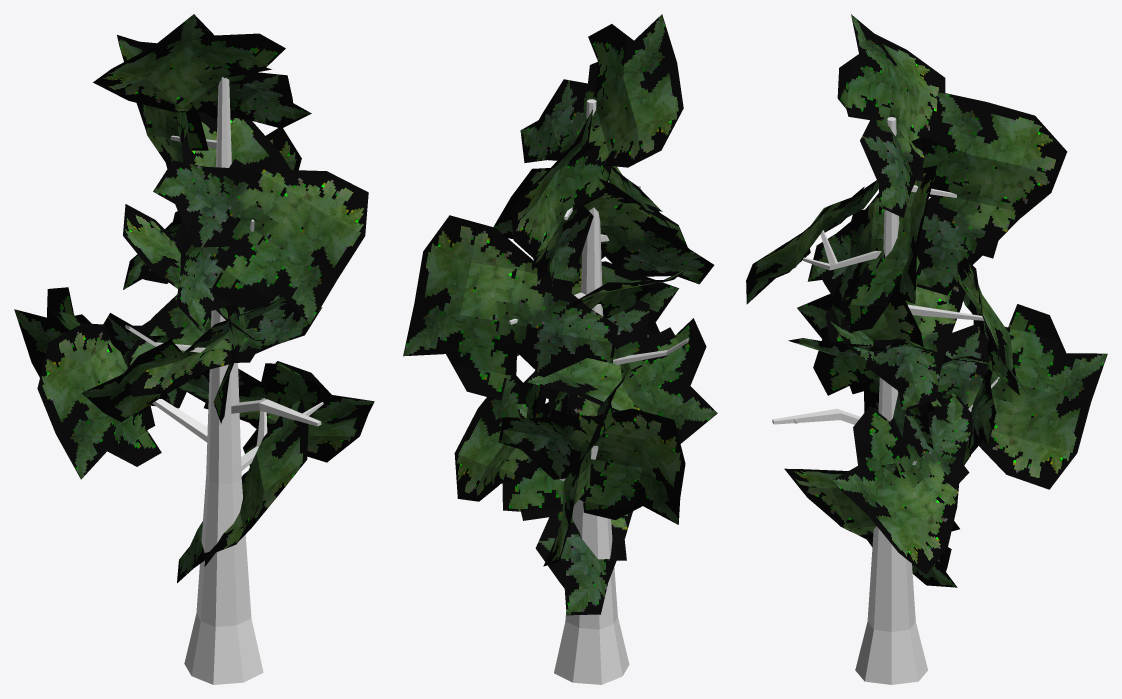
Rendered from tall-tree.fbx.
3 renders of one model, left to right at view 1: azimuth 30°, elevation 25°; view 2: azimuth 150°, elevation 25°; view 3: azimuth 270°, elevation 25°, orthographic. The views are drawn at different scales.
Parts seen in each view (by area): view 1: trunk|tree-leaves|Dupli|11, trunk, trunk|tree-leaves|Dupli|, trunk|tree-leaves|Dupli|1, trunk|tree-leaves|Dupli|7, trunk|tree-leaves|Dupli|6, trunk|tree-leaves|Dupli|10, trunk|tree-leaves|Dupli|5, trunk|tree-leaves|Dupli|4, trunk|tree-leaves|Dupli|2, trunk|tree-leaves|Dupli|12, trunk|tree-leaves|Dupli|8 (+2 smaller); view 2: trunk|tree-leaves|Dupli|9, trunk|tree-leaves|Dupli|, trunk|tree-leaves|Dupli|1, trunk, trunk|tree-leaves|Dupli|12, trunk|tree-leaves|Dupli|4, trunk|tree-leaves|Dupli|5, trunk|tree-leaves|Dupli|10, trunk|tree-leaves|Dupli|6, trunk|tree-leaves|Dupli|7, trunk|tree-leaves|Dupli|2, trunk|tree-leaves|Dupli|3 (+2 smaller); view 3: trunk|tree-leaves|Dupli|12, trunk|tree-leaves|Dupli|2, trunk|tree-leaves|Dupli|6, trunk|tree-leaves|Dupli|, trunk, trunk|tree-leaves|Dupli|10, trunk|tree-leaves|Dupli|8, trunk|tree-leaves|Dupli|3, trunk|tree-leaves|Dupli|5, trunk|tree-leaves|Dupli|11, trunk|tree-leaves|Dupli|9, trunk|tree-leaves|Dupli|1 (+2 smaller).
Part boxes in pixels (x1=…): trunk|tree-leaves|Dupli|11: x1=153, y1=159, x2=368, y2=324; trunk: x1=125, y1=76, x2=323, y2=684; trunk|tree-leaves|Dupli|: x1=93, y1=14, x2=311, y2=128; trunk|tree-leaves|Dupli|1: x1=37, y1=320, x2=186, y2=479; trunk|tree-leaves|Dupli|7: x1=127, y1=294, x2=322, y2=396; trunk|tree-leaves|Dupli|6: x1=178, y1=361, x2=374, y2=462; trunk|tree-leaves|Dupli|10: x1=173, y1=112, x2=290, y2=331; trunk|tree-leaves|Dupli|5: x1=177, y1=399, x2=308, y2=582; trunk|tree-leaves|Dupli|4: x1=82, y1=297, x2=288, y2=421; trunk|tree-leaves|Dupli|2: x1=14, y1=287, x2=181, y2=411; trunk|tree-leaves|Dupli|12: x1=117, y1=35, x2=208, y2=168; trunk|tree-leaves|Dupli|8: x1=123, y1=204, x2=255, y2=340; trunk|tree-leaves|Dupli|9: x1=403, y1=215, x2=618, y2=400; trunk|tree-leaves|Dupli|: x1=520, y1=14, x2=683, y2=167; trunk|tree-leaves|Dupli|1: x1=498, y1=408, x2=685, y2=524; trunk: x1=508, y1=99, x2=688, y2=684; trunk|tree-leaves|Dupli|12: x1=510, y1=109, x2=611, y2=286; trunk|tree-leaves|Dupli|4: x1=566, y1=300, x2=717, y2=443; trunk|tree-leaves|Dupli|5: x1=502, y1=403, x2=633, y2=615; trunk|tree-leaves|Dupli|10: x1=493, y1=168, x2=714, y2=284; trunk|tree-leaves|Dupli|6: x1=454, y1=373, x2=571, y2=501; trunk|tree-leaves|Dupli|7: x1=527, y1=357, x2=642, y2=411; trunk|tree-leaves|Dupli|2: x1=543, y1=365, x2=629, y2=566; trunk|tree-leaves|Dupli|3: x1=540, y1=261, x2=678, y2=416; trunk|tree-leaves|Dupli|12: x1=911, y1=91, x2=1067, y2=295; trunk|tree-leaves|Dupli|2: x1=936, y1=304, x2=1107, y2=489; trunk|tree-leaves|Dupli|6: x1=831, y1=391, x2=972, y2=574; trunk|tree-leaves|Dupli|: x1=837, y1=14, x2=945, y2=217; trunk: x1=772, y1=117, x2=999, y2=684; trunk|tree-leaves|Dupli|10: x1=807, y1=165, x2=937, y2=331; trunk|tree-leaves|Dupli|8: x1=825, y1=256, x2=965, y2=411; trunk|tree-leaves|Dupli|3: x1=797, y1=289, x2=934, y2=449; trunk|tree-leaves|Dupli|5: x1=784, y1=463, x2=959, y2=587; trunk|tree-leaves|Dupli|11: x1=746, y1=180, x2=878, y2=304; trunk|tree-leaves|Dupli|9: x1=957, y1=257, x2=1028, y2=395; trunk|tree-leaves|Dupli|1: x1=963, y1=320, x2=996, y2=465.
Size of the model in its own units: 572 by 1323 by 685.
Materials: 2 (1 with a texture image).
